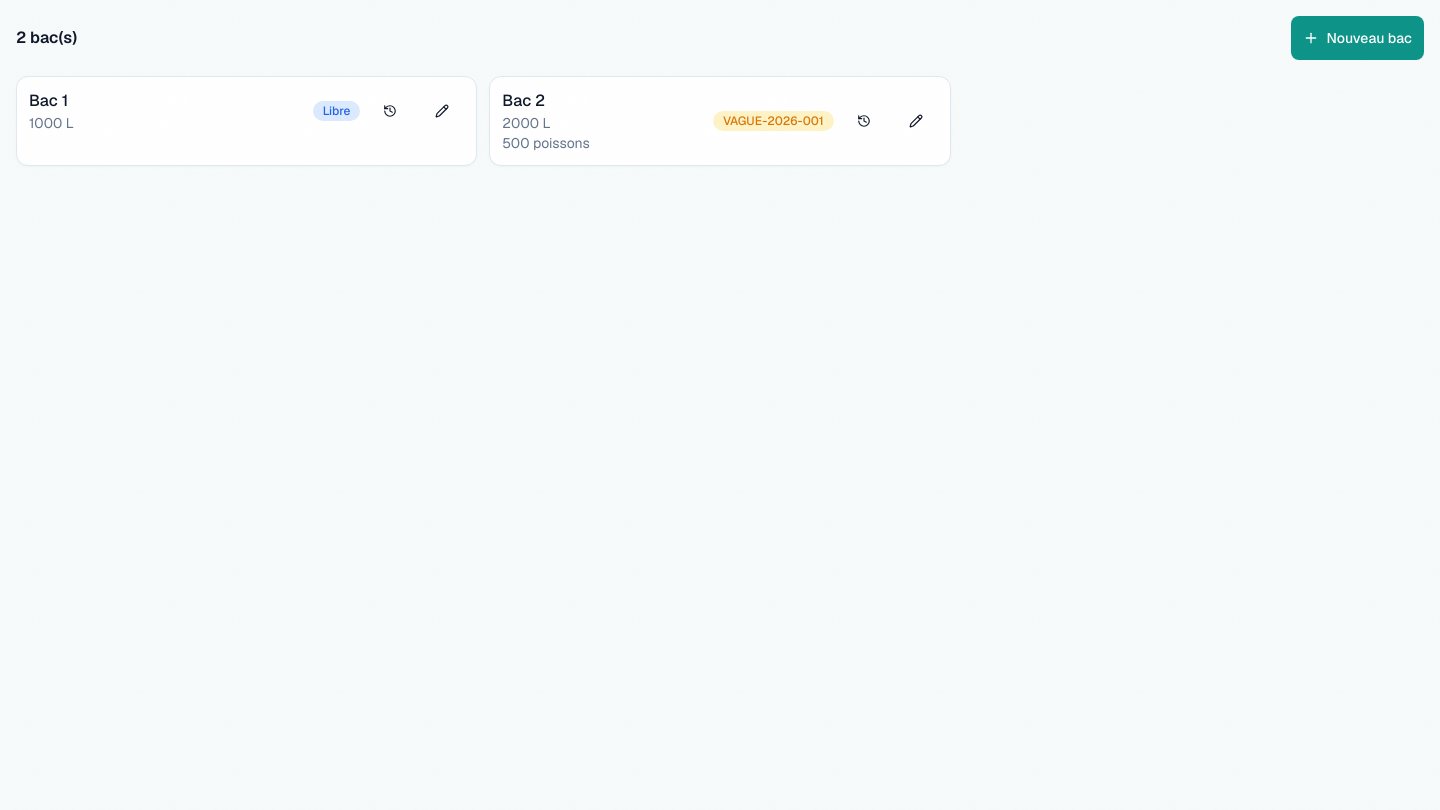
Test: BacsListClient — Formulaire de création › ouvre le dialogue de création au clic sur 'Nouveau bac'
The image size is (1440, 810).
Click the button "Nouveau bac" at [1357, 38], box x1=1290 y1=16 x2=1424 y2=60
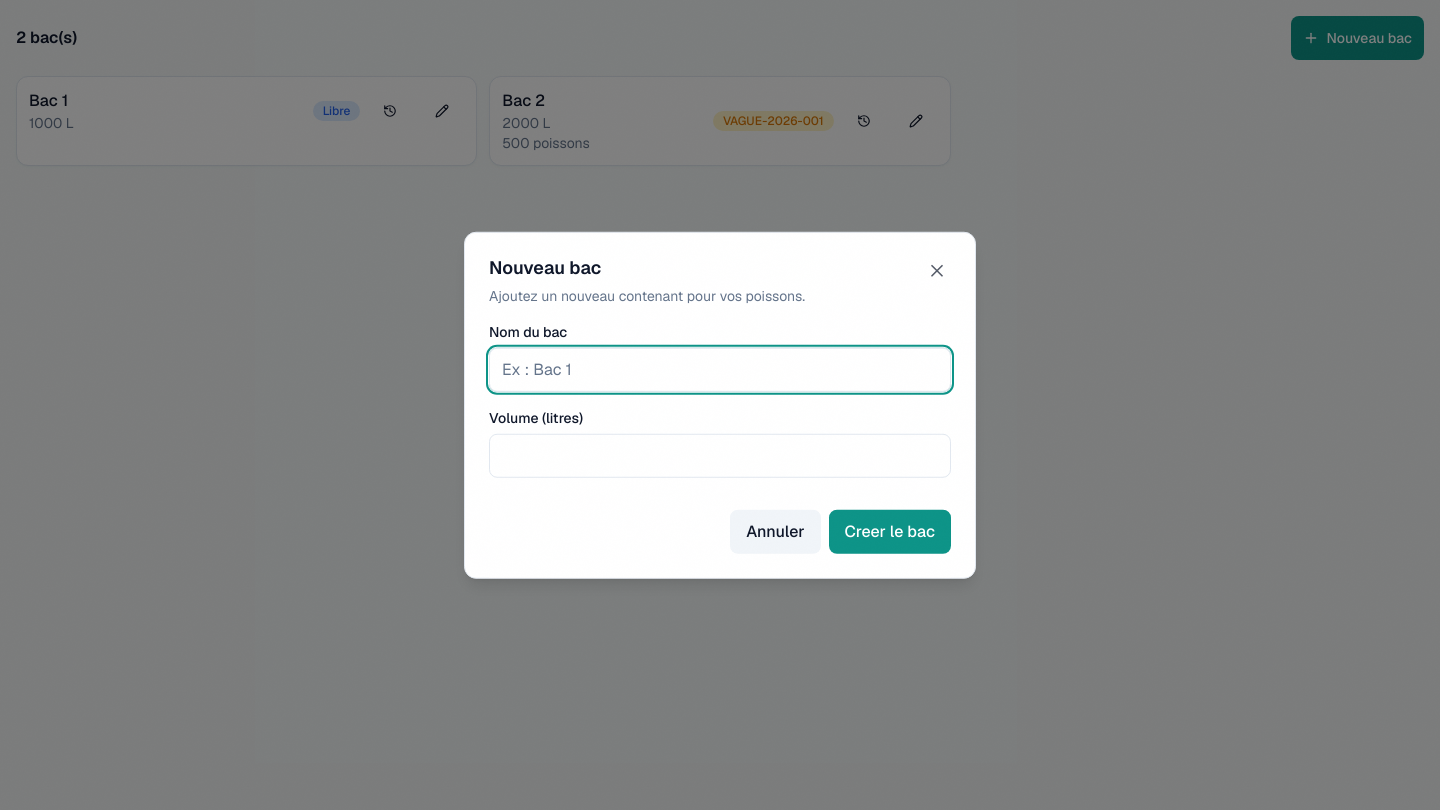
Result: the button "Creer le bac" is shown at x1=829 y1=509 x2=951 y2=553
